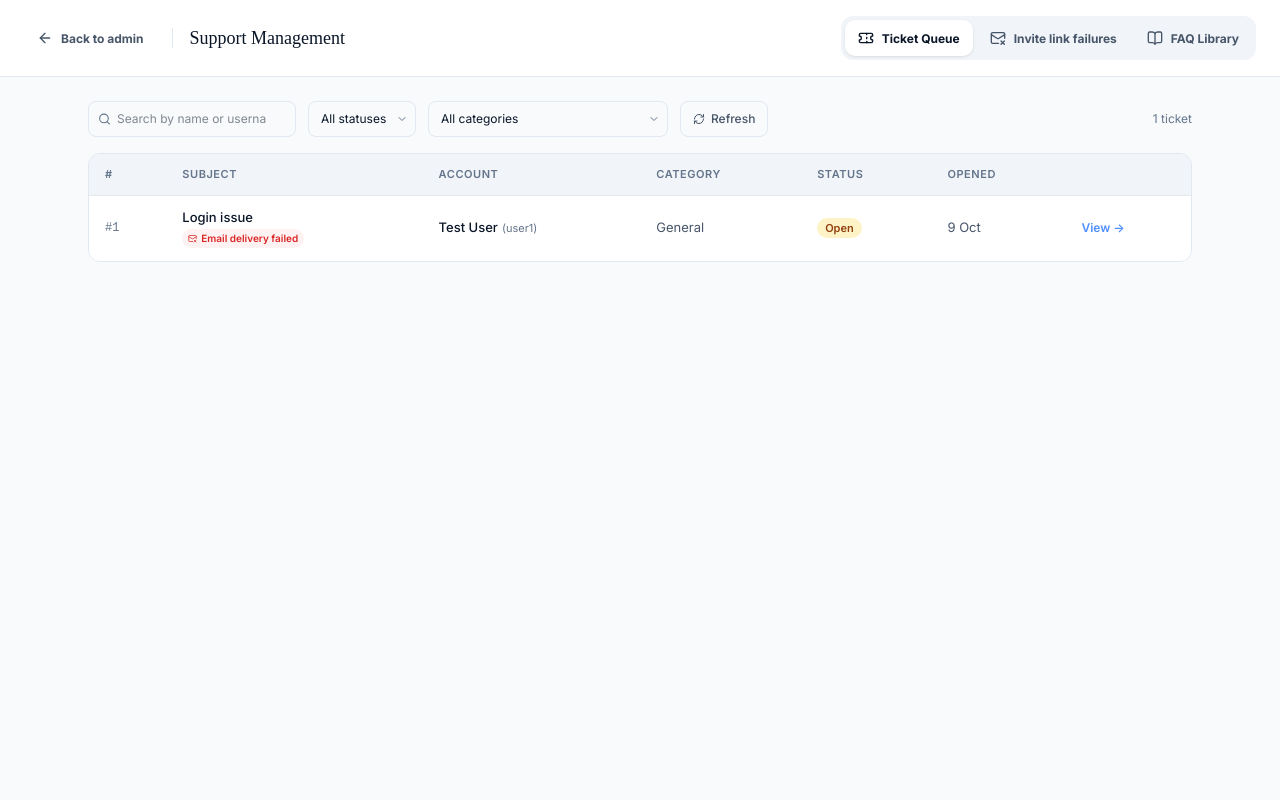
Test: SupportAdminPage - 'Clear flag' happy path › after going back to the list, the 'Email delivery failed' badge is gone
The width and height of the screenshot is (1280, 800).
Click the button "View →" at (1103, 228), box [1082,219,1125,237]
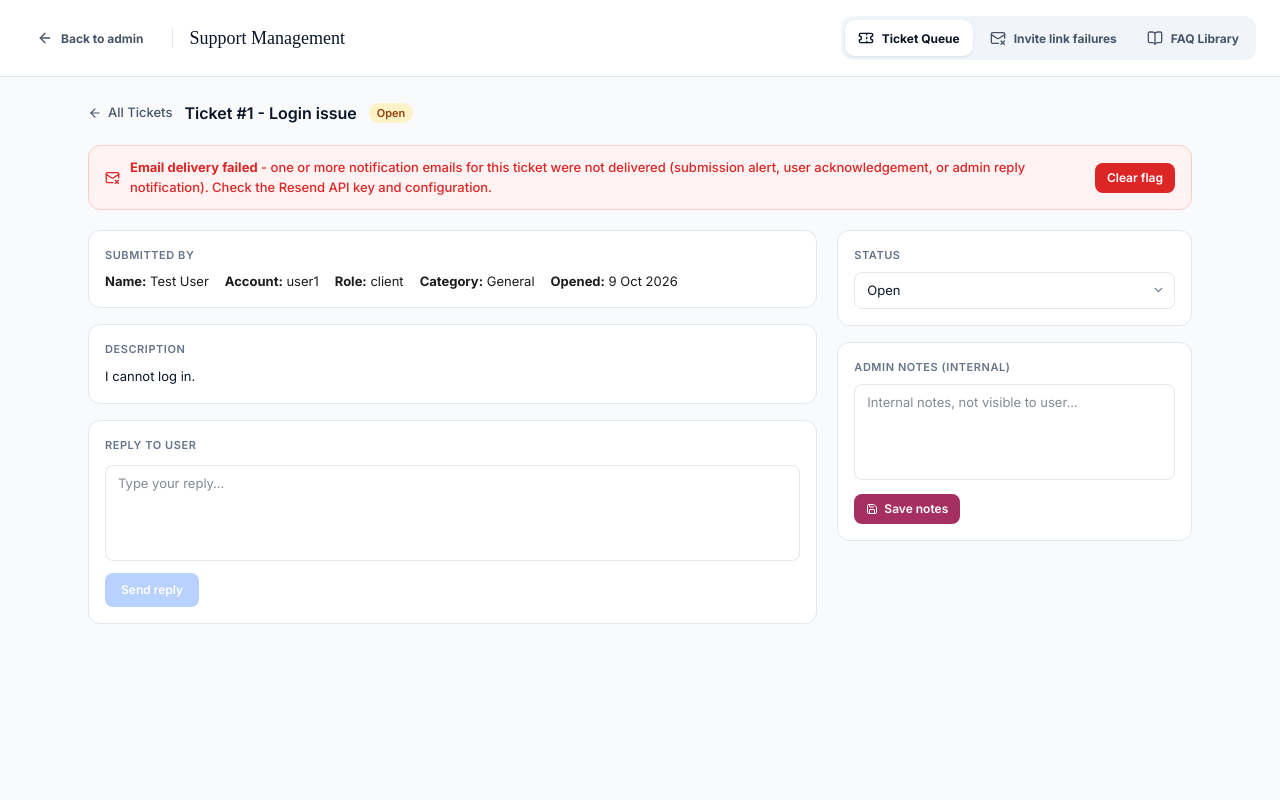
Click the button "Clear flag" at (1135, 178), box [1095,162,1175,192]
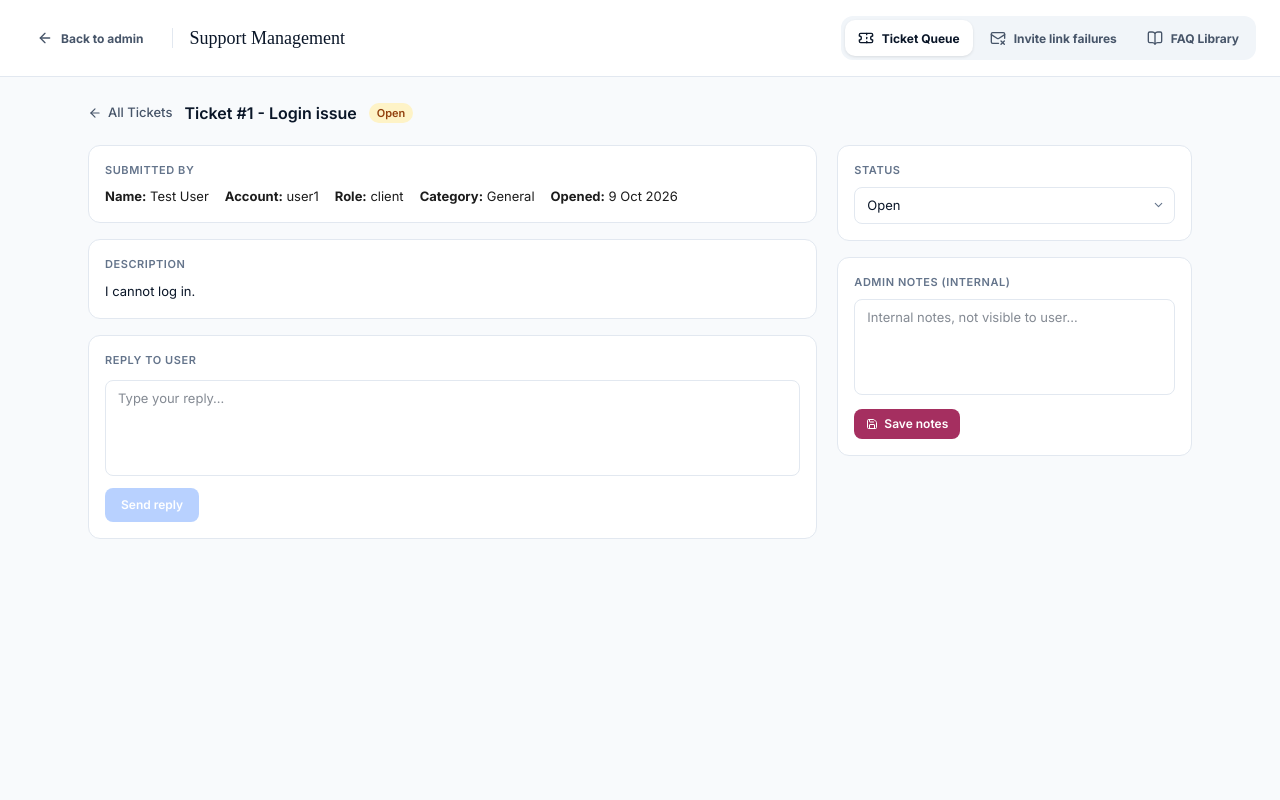
Result: the button "Clear flag" is gone
Click the button "All Tickets" at (130, 113), box [88,103,172,123]
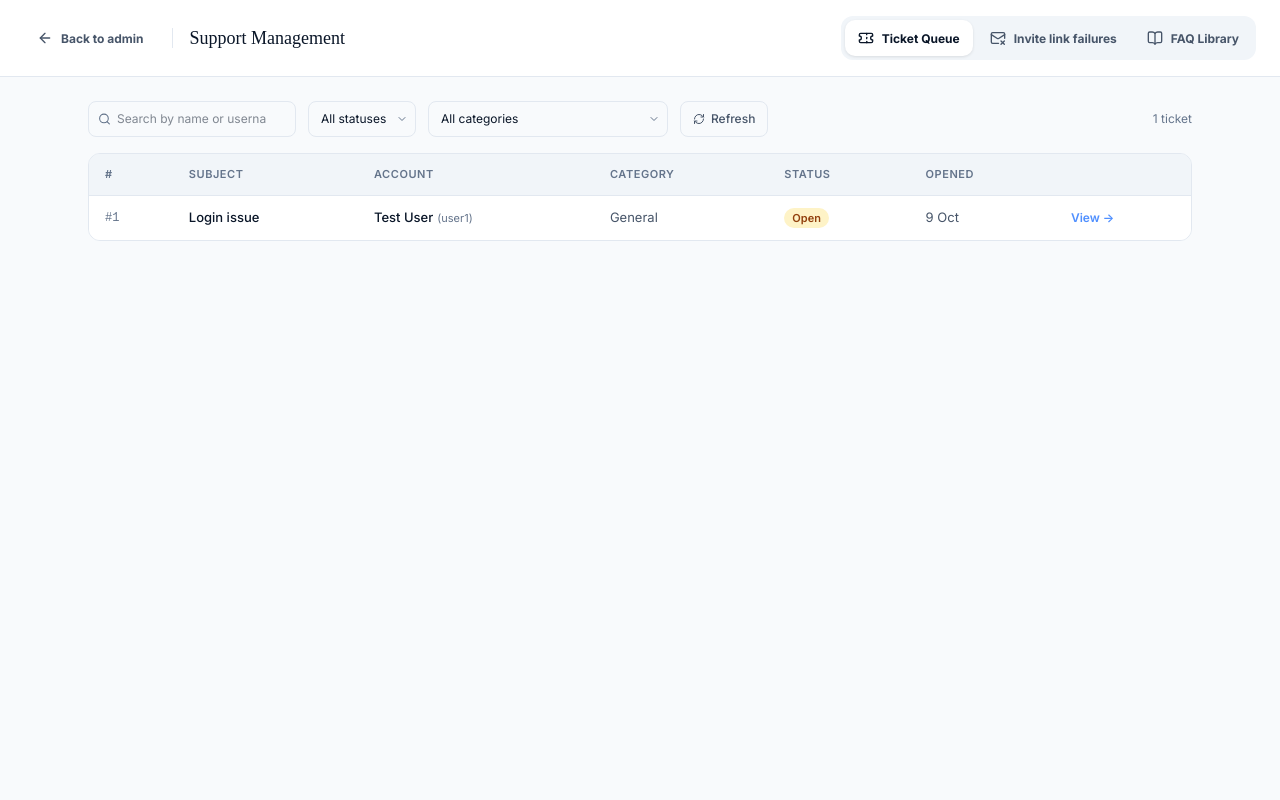
Expected: the text "Email delivery failed" is not shown
Result: the button "View →" is shown at [1071,209,1114,227]
